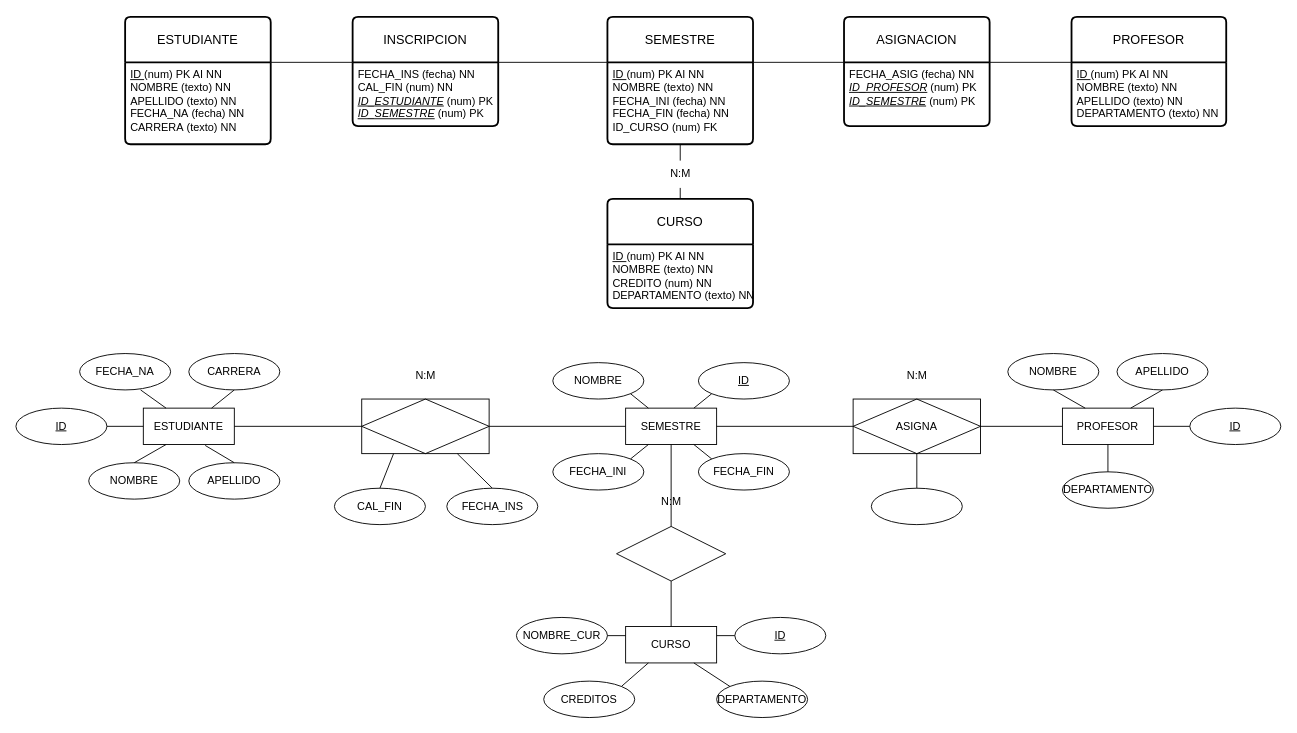
Image size: 1297x733. Some labels were removed from this diagram. The centre of each missing label's shape, as x and y in pixels:
FECHA_ASIG: the point at 916,506
INSCRIBE: the point at 425,426
PERTENECE: the point at 671,553
